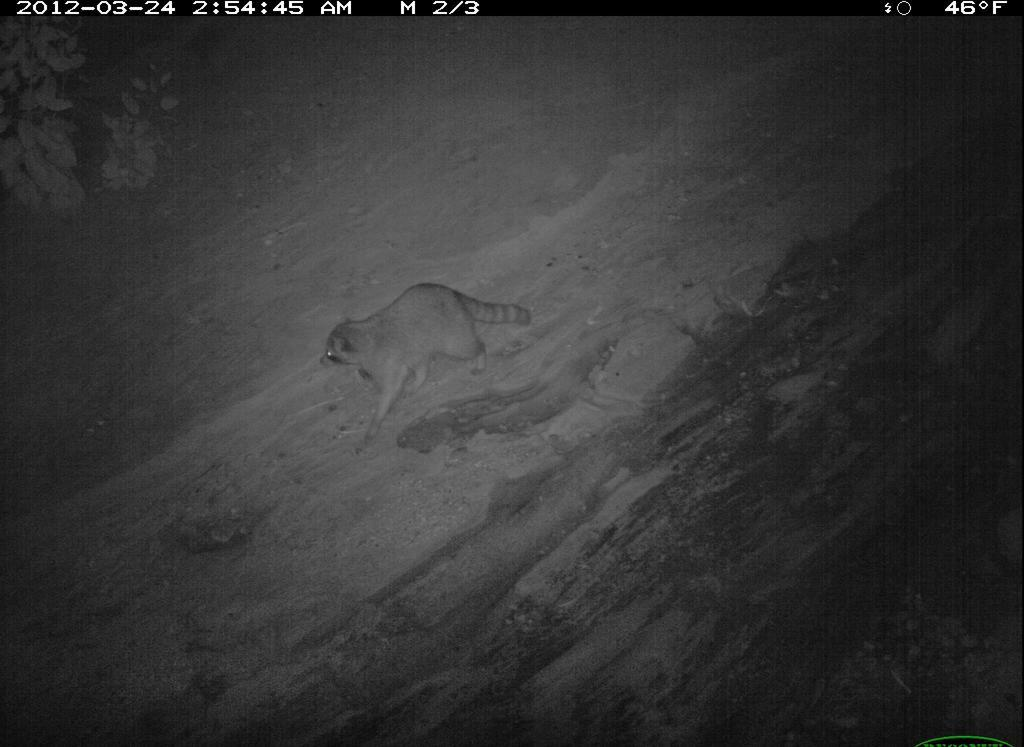raccoon: (628, 553, 1024, 747)
